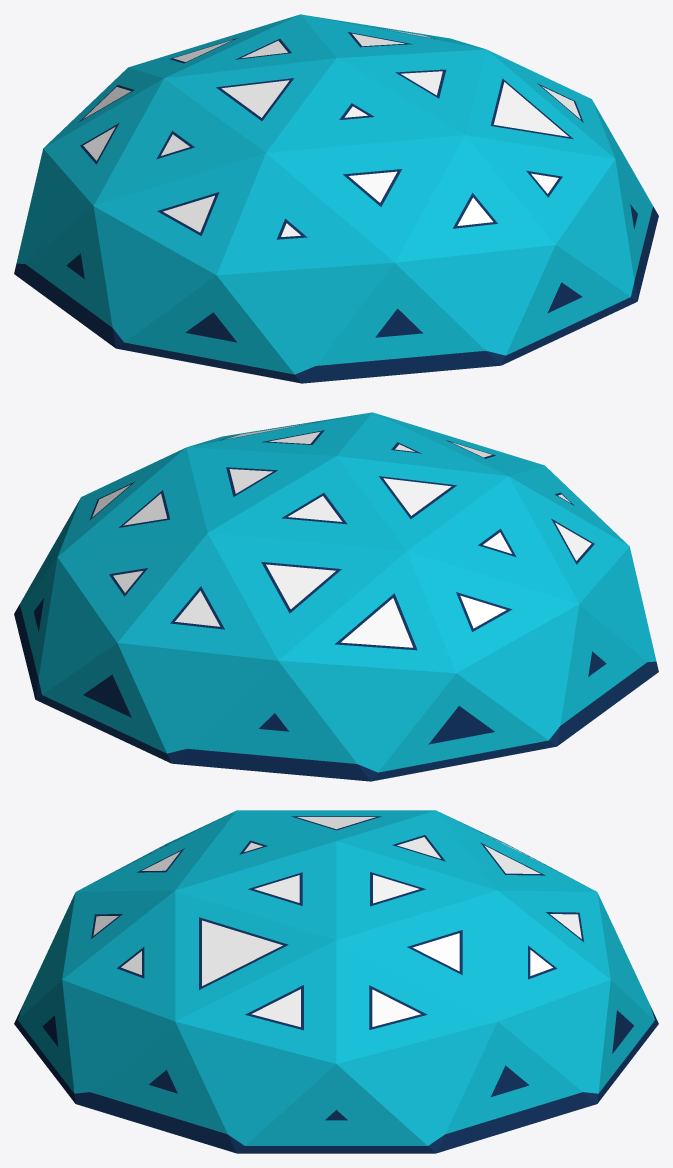
Rendered from cogumelo6.FBX.
3 renders of one model, top to bottom at view 1: azimuth 30°, elevation 25°; view 2: azimuth 150°, elevation 25°; view 3: azimuth 270°, elevation 25°, orthographic. The views are drawn at different scales.
Visible parts, largest first — view 1: cogumelo6cabeca; view 2: cogumelo6cabeca; view 3: cogumelo6cabeca.
Boxes of the visible parts, x1,y1,x2,y2 form: cogumelo6cabeca: [14, 14, 658, 383]; cogumelo6cabeca: [14, 412, 658, 781]; cogumelo6cabeca: [14, 810, 658, 1153].
Bounding box in the file's own units: 42.4 × 13.95 × 44.58.
